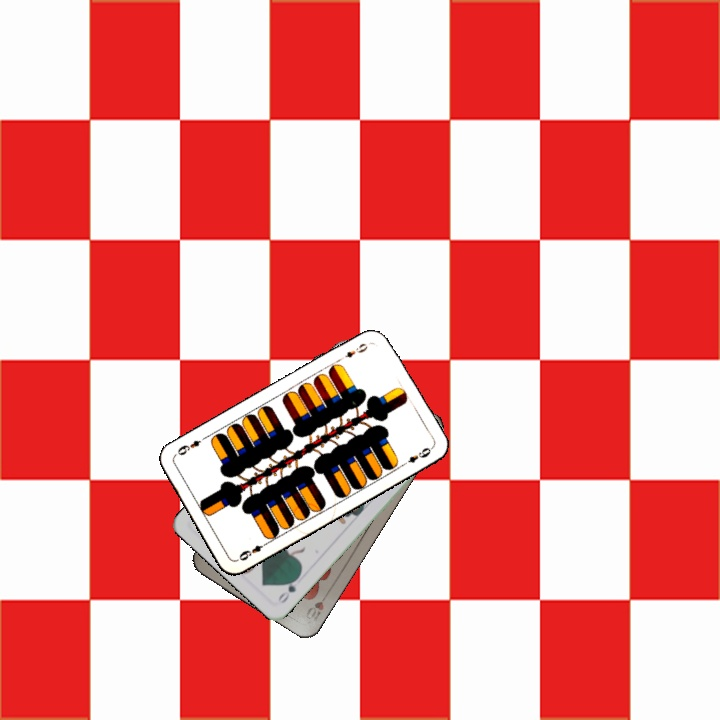E9: (233, 538, 270, 564), (335, 339, 371, 363)
GO: (274, 571, 303, 606)
H10: (301, 588, 332, 625)
